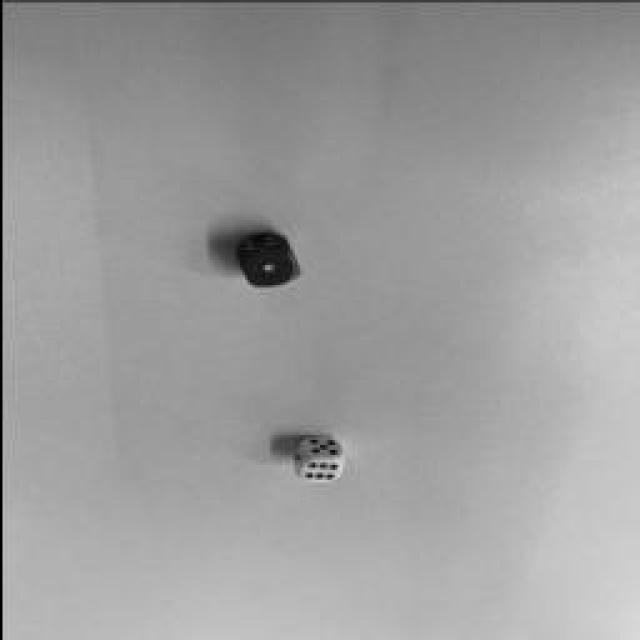dice_1: (240, 249, 292, 286)
dice_6: (298, 456, 340, 482)
